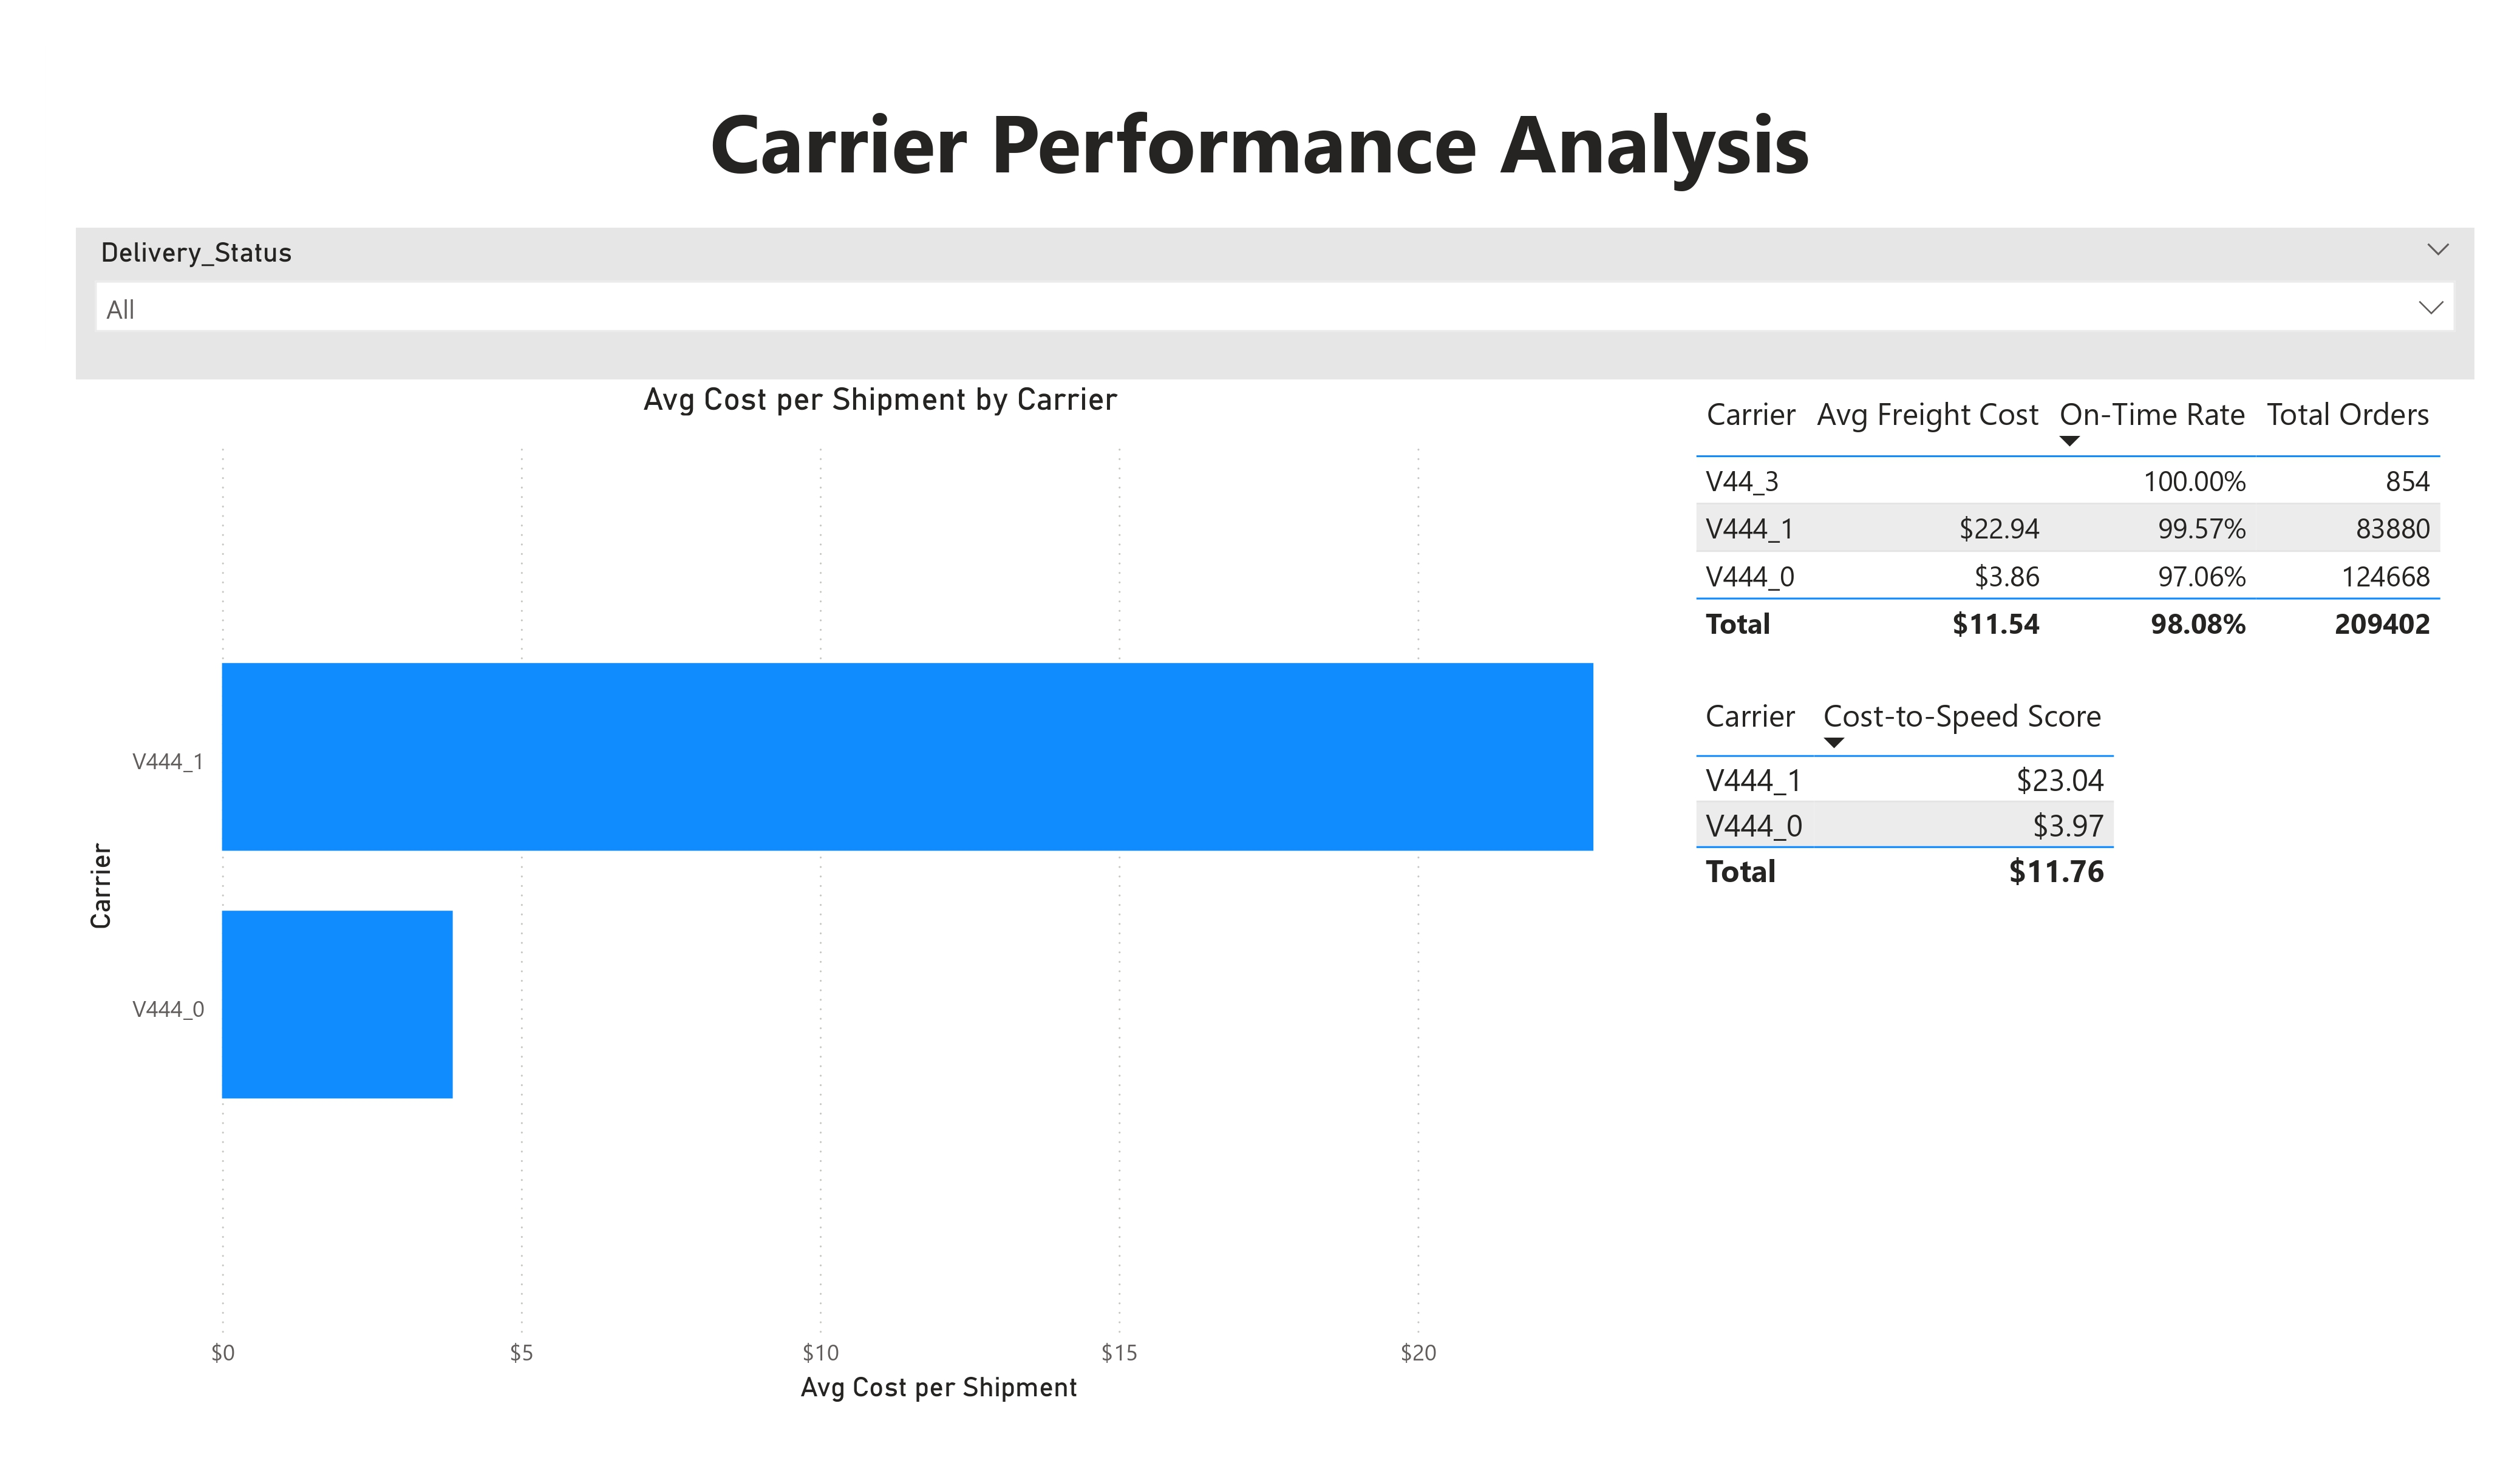

The page's visual inventory and layout, read from the dashboard file:
{"tool":"powerbi","page":{"name":"Carrier Analysis","canvas":[1280,720],"ordinal":1},"visuals":[{"type":"clusteredBarChart","fields":{"Y":["Avg(OrderList6.Freight_Cost)"],"Category":["OrderList6.Carrier"]},"box":[16,176,848,544],"z":0},{"type":"tableEx","fields":{"Values":["OrderList6.Carrier","Avg(OrderList6.Freight_Cost)","Avg(OrderList6.Is_OnTime)","CountNonNull(OrderList6.Order ID)"]},"box":[864,176,416,160],"z":1000},{"type":"slicer","fields":{"Values":["OrderList6.Delivery_Status"]},"box":[16,96,1264,80],"z":2000},{"type":"tableEx","fields":{"Values":["OrderList6.Carrier","OrderList6.Cost_to_Speed"]},"box":[864,336,416,128],"z":3000},{"type":"textbox","box":[0,16,1280,80],"z":4000}]}

Visuals, with their boxes on the page's 1280x720 design canvas (x1, y1, x2, y2). These are canvas units, not pixel positions in the 2520x1457 screenshot, which may show the page scaled, cropped or inside an application window:
clusteredBarChart - Avg(OrderList6.Freight_Cost) x OrderList6.Carrier: 16, 176, 864, 720
tableEx - OrderList6.Carrier x Avg(OrderList6.Freight_Cost): 864, 176, 1280, 336
slicer - OrderList6.Delivery_Status: 16, 96, 1280, 176
tableEx - OrderList6.Carrier x OrderList6.Cost_to_Speed: 864, 336, 1280, 464
textbox: 0, 16, 1280, 96
